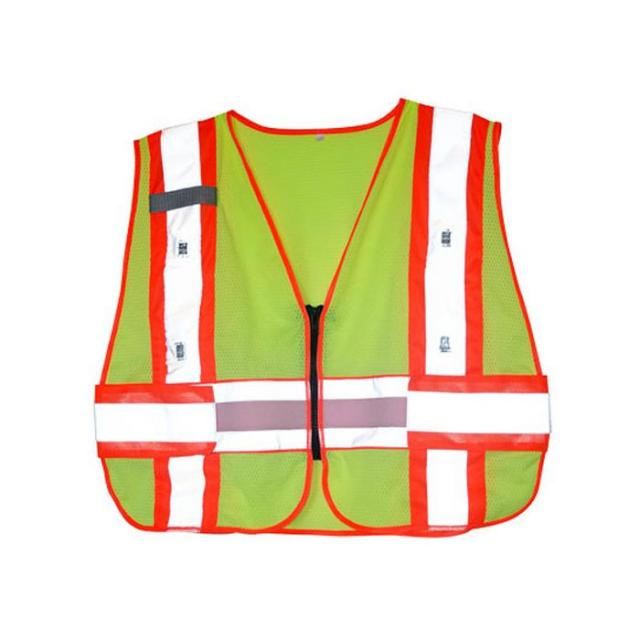Reflective-Jacket: (22, 94, 596, 547)
